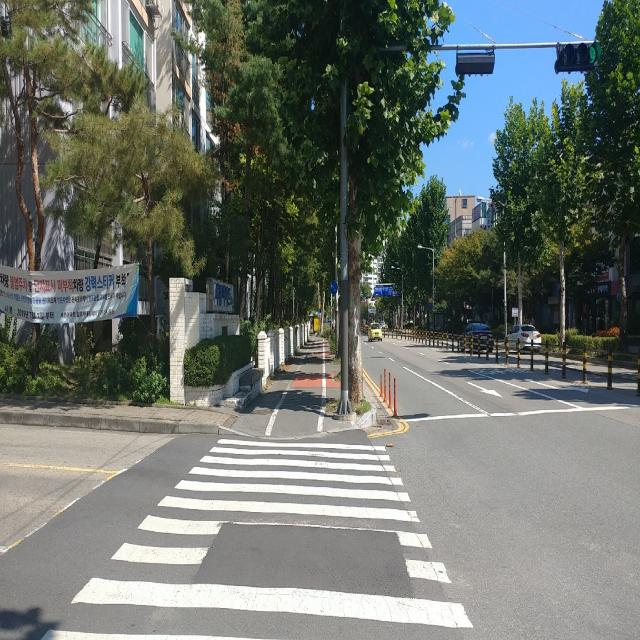횡단보도: (35, 433, 477, 640)
